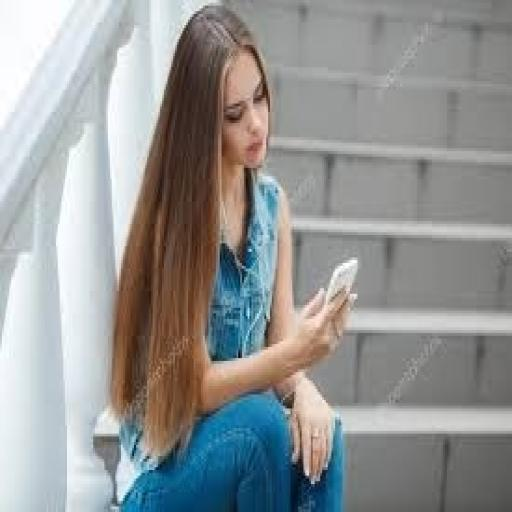listening_to_music: (108, 3, 359, 509)
